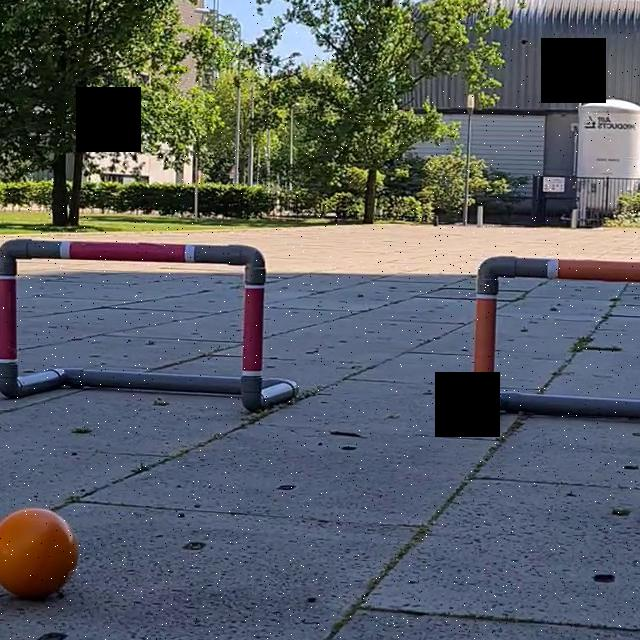ball: (0, 503, 82, 606)
